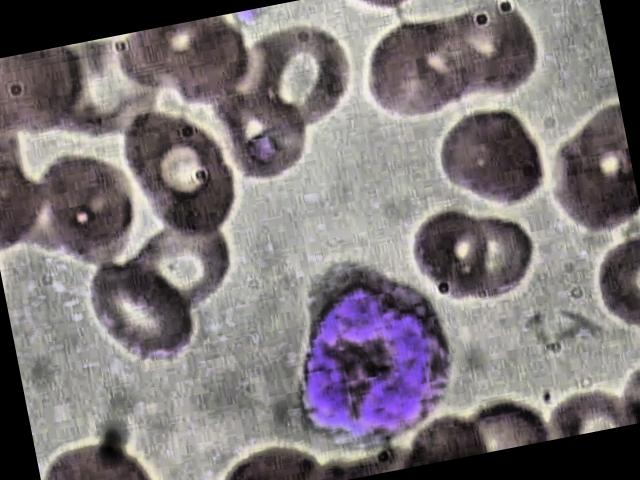RBC: (106, 94, 250, 250), (236, 12, 365, 146), (76, 245, 204, 379), (118, 205, 246, 339), (19, 139, 147, 272), (425, 99, 556, 224), (356, 10, 483, 130), (428, 0, 555, 112), (198, 75, 322, 189), (424, 212, 544, 314), (403, 200, 504, 302), (36, 429, 167, 480), (587, 237, 640, 339)
WBC: (249, 234, 488, 466)
